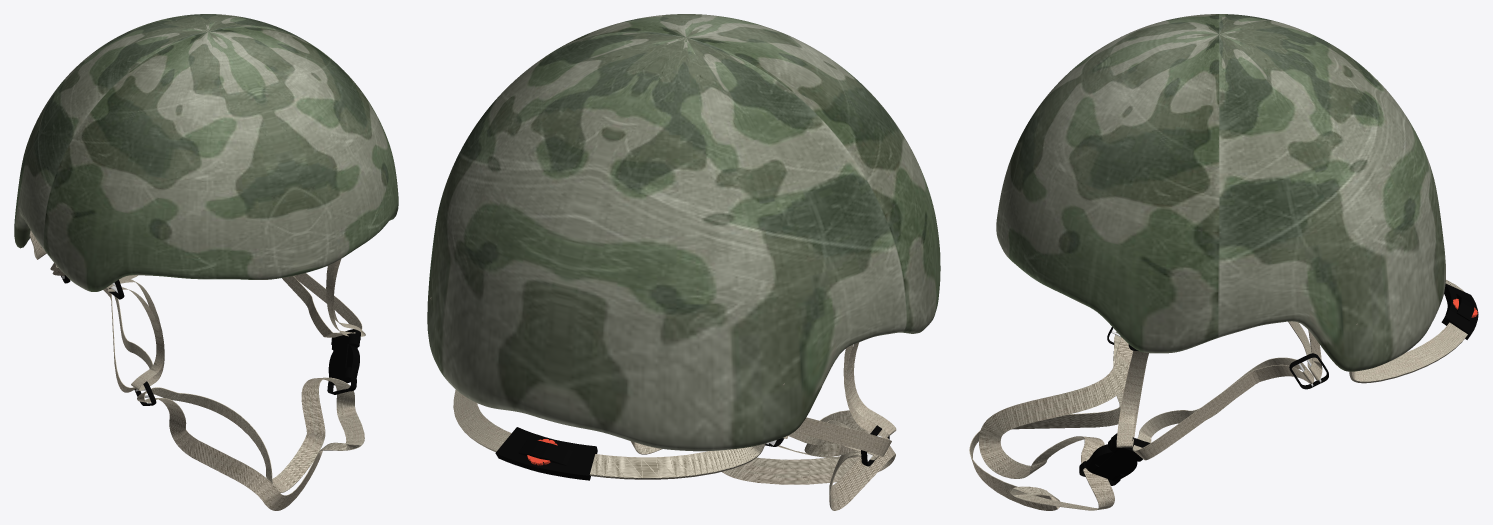
Rendered from Helmet.fbx.
The picture shows the model from 3 angles, left to right: view 1: azimuth 30°, elevation 25°; view 2: azimuth 150°, elevation 25°; view 3: azimuth 270°, elevation 25°; orthographic projection. The views are drawn at different scales.
Parts seen in each view (by area): view 1: helmet, neck_strap, Sweep_6, Sweep, Extrude_3; view 2: helmet, neck_strap, Sweep_8, Sweep_1, Sweep_6, Sweep, Sweep_2_2; view 3: helmet, neck_strap, Sweep_6, Sweep_8, Sweep, Extrude_3, Sweep_1, Sweep_3_2.
Boxes of the visible parts, bbox=[...] form: helmet: bbox=[14, 14, 398, 291]; neck_strap: bbox=[137, 377, 364, 510]; Sweep_6: bbox=[52, 265, 362, 392]; Sweep: bbox=[104, 259, 365, 390]; Extrude_3: bbox=[328, 333, 359, 383]; helmet: bbox=[427, 14, 940, 451]; neck_strap: bbox=[630, 410, 895, 510]; Sweep_8: bbox=[430, 297, 784, 479]; Sweep_1: bbox=[495, 427, 597, 480]; Sweep_6: bbox=[783, 417, 891, 456]; Sweep: bbox=[843, 342, 896, 437]; Sweep_2_2: bbox=[518, 439, 572, 465]; helmet: bbox=[996, 14, 1445, 371]; neck_strap: bbox=[969, 331, 1132, 510]; Sweep_6: bbox=[1132, 357, 1314, 460]; Sweep_8: bbox=[1349, 280, 1467, 383]; Sweep: bbox=[1116, 350, 1148, 447]; Extrude_3: bbox=[1085, 436, 1142, 481]; Sweep_1: bbox=[1441, 283, 1478, 339]; Sweep_3_2: bbox=[1288, 321, 1322, 380].
Bounding box in the file's own units: 70.53 × 81.81 × 80.98.
Materials: 4 (2 with a texture image).
